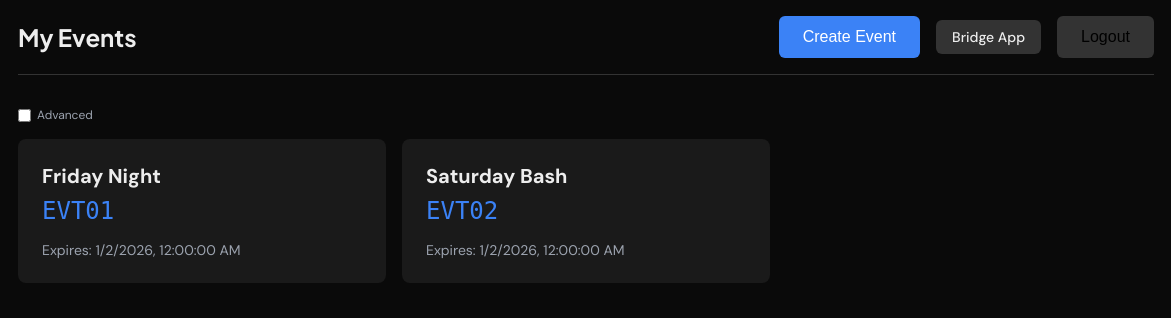
Test: EventsPage › Batch delete (selection mode) › clears selection after delete
The width and height of the screenshot is (1171, 318).
Expected: the heading "Friday Night" is shown, [42,163,161,189]
Click the checkbox labelled "Advanced": (24, 115) [18,108,31,122]
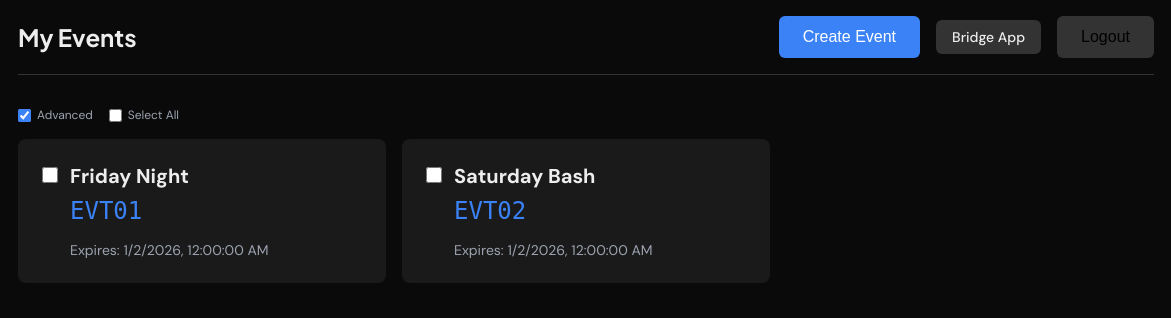
Click the checkbox named "Select event": (50, 175) [42,167,58,183]
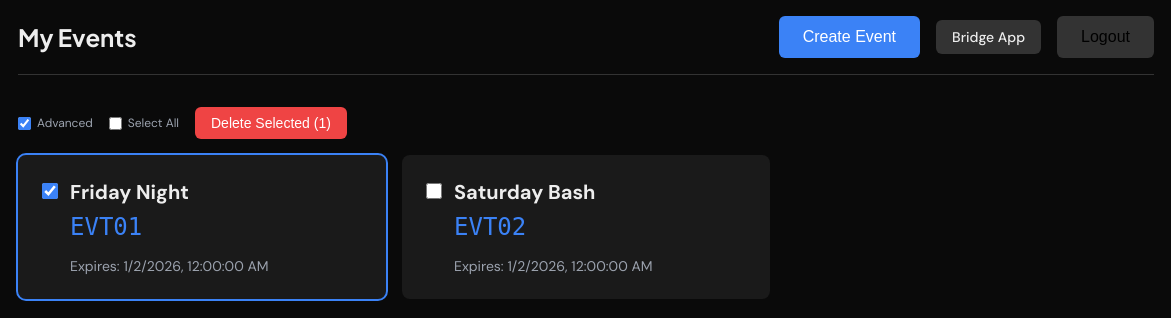
Click the button "Delete Selected (1)": (271, 123) [195,107,347,139]
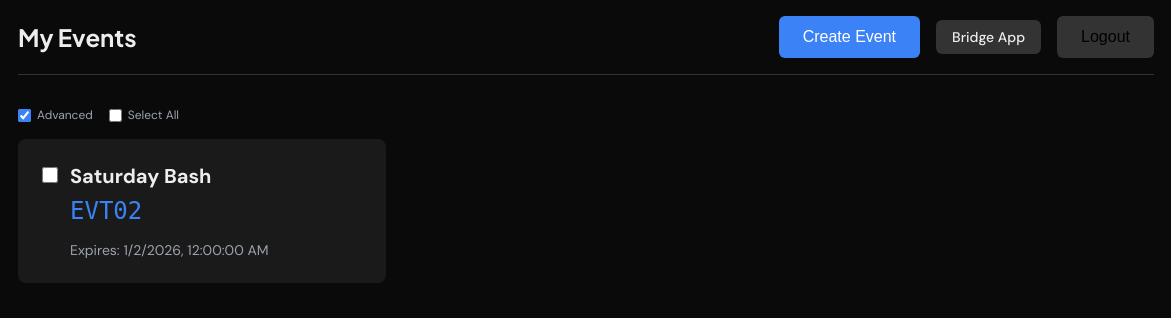
Expected: the button "Delete Selected" is gone
